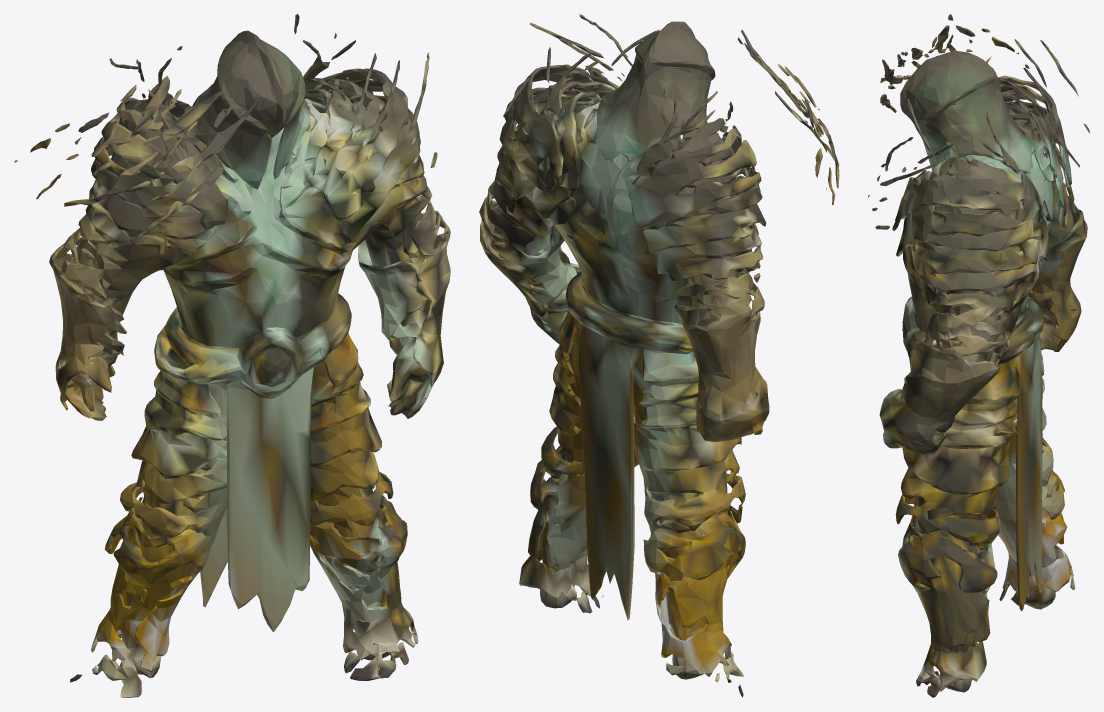
Rendered from treant.glb.
3 views of the same model, side by side, from view 1: azimuth 30°, elevation 25°; view 2: azimuth 150°, elevation 25°; view 3: azimuth 270°, elevation 25° (orthographic). The views are drawn at different scales.
Visible parts, largest first — view 1: world; view 2: world; view 3: world.
Boxes of the visible parts, x1,y1,x2,y2 form: world: (14,14,450,697); world: (479,14,839,697); world: (868,14,1089,697).
Bounding box in the file's own units: 0.639 × 1 × 0.3406.
